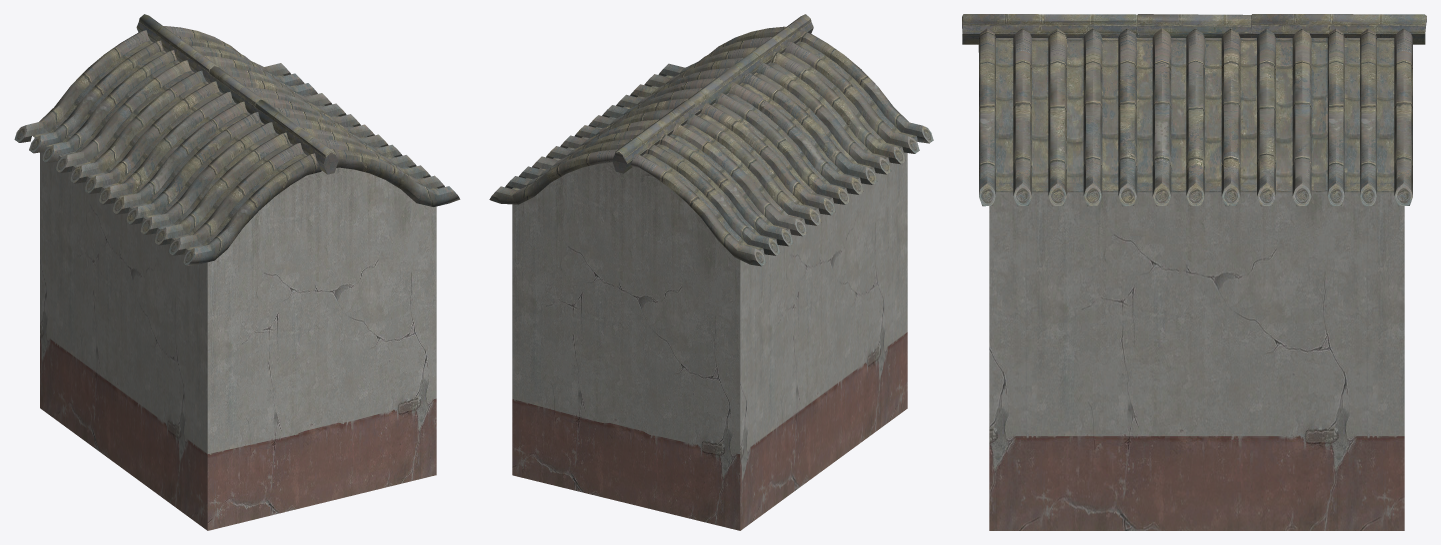
Rendered from bg_anh_delphiinn_bh08_sm_cwk.FBX.
3 renders of one model, left to right at view 1: azimuth 30°, elevation 25°; view 2: azimuth 150°, elevation 25°; view 3: azimuth 270°, elevation 25°, orthographic. The views are drawn at different scales.
Parts seen in each view (by area): view 1: bg_anh_delphiinn_bh08_sm_cwk; view 2: bg_anh_delphiinn_bh08_sm_cwk; view 3: bg_anh_delphiinn_bh08_sm_cwk.
Part boxes in pixels (box(x1,y1,x2,y2)): bg_anh_delphiinn_bh08_sm_cwk: box(14, 14, 460, 530); bg_anh_delphiinn_bh08_sm_cwk: box(489, 14, 933, 530); bg_anh_delphiinn_bh08_sm_cwk: box(962, 14, 1426, 530).
Bounding box in the file's own units: 287 × 362 × 341.
